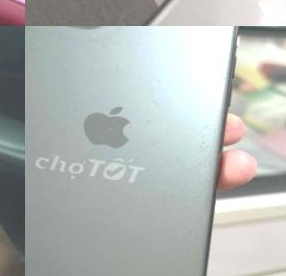scratch: (166, 75, 240, 276), (152, 125, 194, 249), (25, 26, 128, 54), (98, 26, 151, 61), (141, 74, 167, 127), (58, 208, 74, 224)
